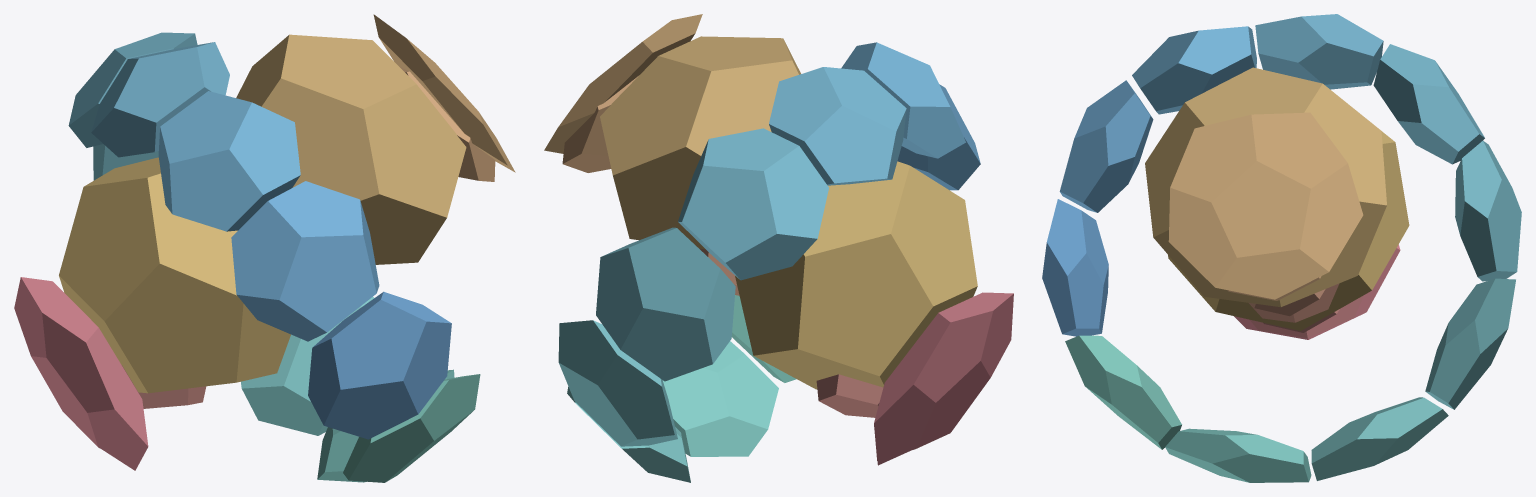
Rendered from example.gltf.
The picture shows the model from 3 angles, left to right: view 1: azimuth 30°, elevation 25°; view 2: azimuth 150°, elevation 25°; view 3: azimuth 270°, elevation 25°; orthographic projection. The views are drawn at different scales.
Parts seen in each view (by area): view 1: cell_ring; view 2: cell_ring; view 3: cell_ring.
Boxes of the visible parts, box(x1,y1,x2,y2) form: cell_ring: box(14, 14, 515, 482); cell_ring: box(544, 14, 1013, 482); cell_ring: box(1042, 14, 1521, 482).
Bounding box in the file's own units: 2.17 × 2.07 × 2.19.
